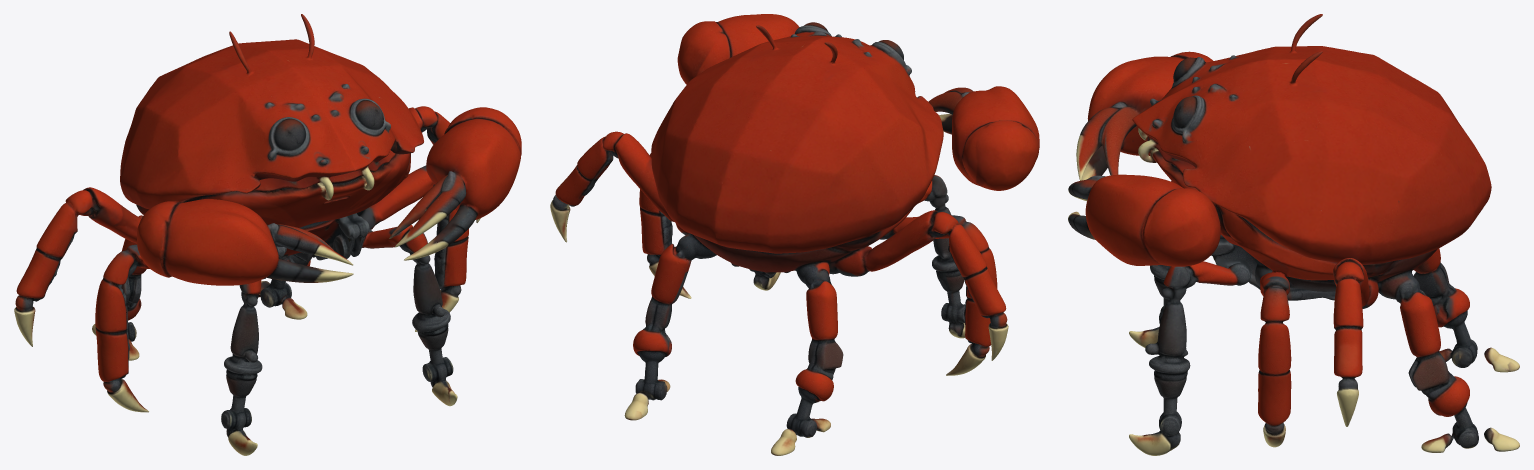
File: crab.glb
3 views of the same model, side by side, from view 1: azimuth 30°, elevation 25°; view 2: azimuth 150°, elevation 25°; view 3: azimuth 270°, elevation 25° (orthographic). The views are drawn at different scales.
Bounding box in the file's own units: 1.9 × 1.35 × 1.47.
Materials: 1 (1 with a texture image).
